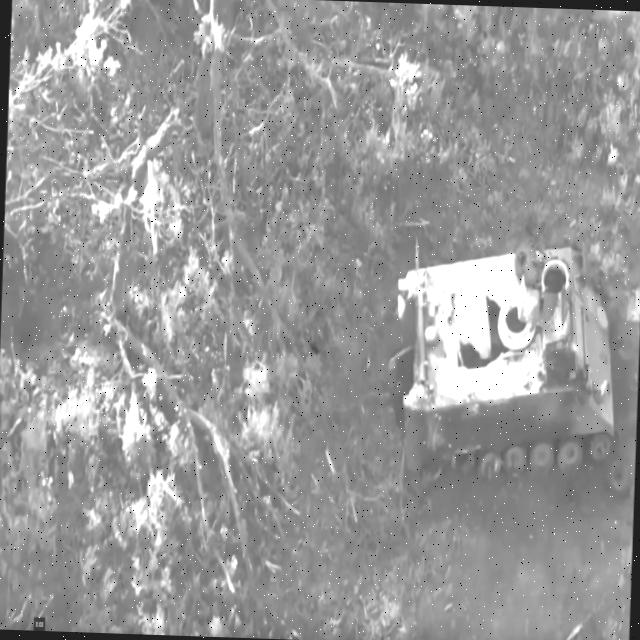APC: (392, 229, 623, 502)
